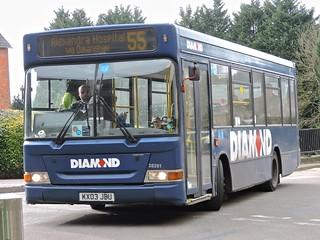bus: (22, 25, 303, 221)
